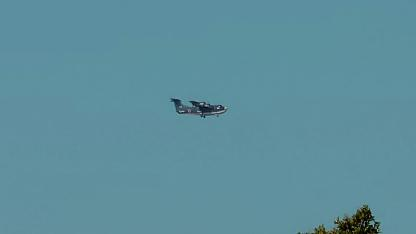Tu95: (170, 96, 228, 116)
